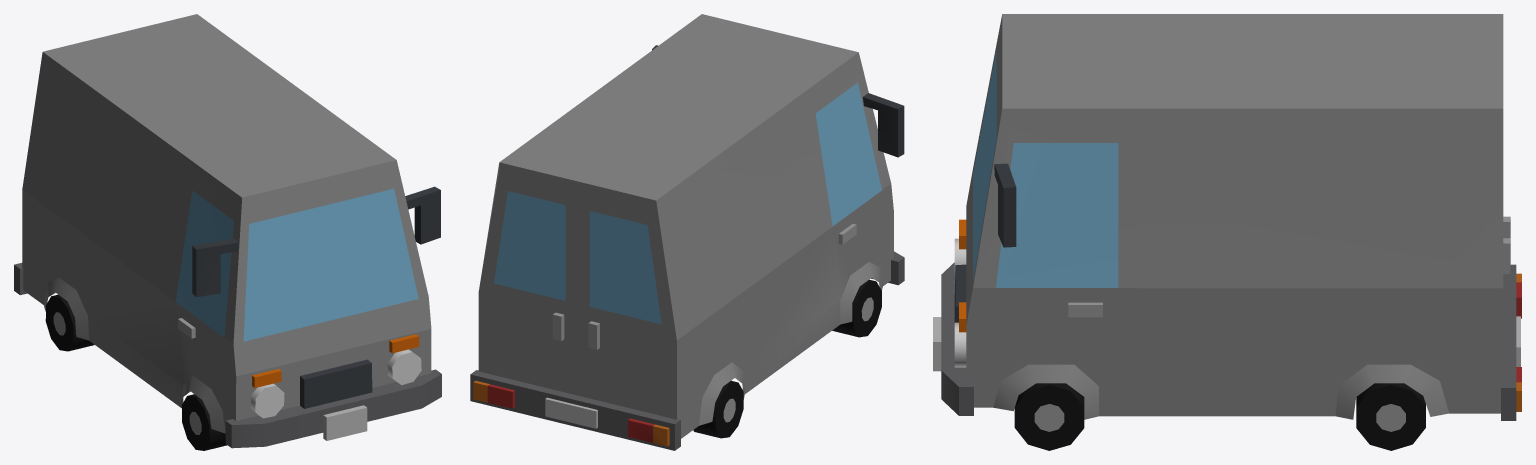
The model's file is Car_10_white.fbx.
The picture shows the model from 3 angles, left to right: view 1: azimuth 30°, elevation 25°; view 2: azimuth 150°, elevation 25°; view 3: azimuth 270°, elevation 25°; orthographic projection. The views are drawn at different scales.
Visible parts, largest first — view 1: Car_10_white; view 2: Car_10_white; view 3: Car_10_white.
Boxes of the visible parts, x1,y1,x2,y2 form: Car_10_white: [14, 14, 441, 450]; Car_10_white: [470, 14, 904, 450]; Car_10_white: [933, 14, 1521, 450].
Size of the model in its own units: 61.18 by 61.89 by 102.
